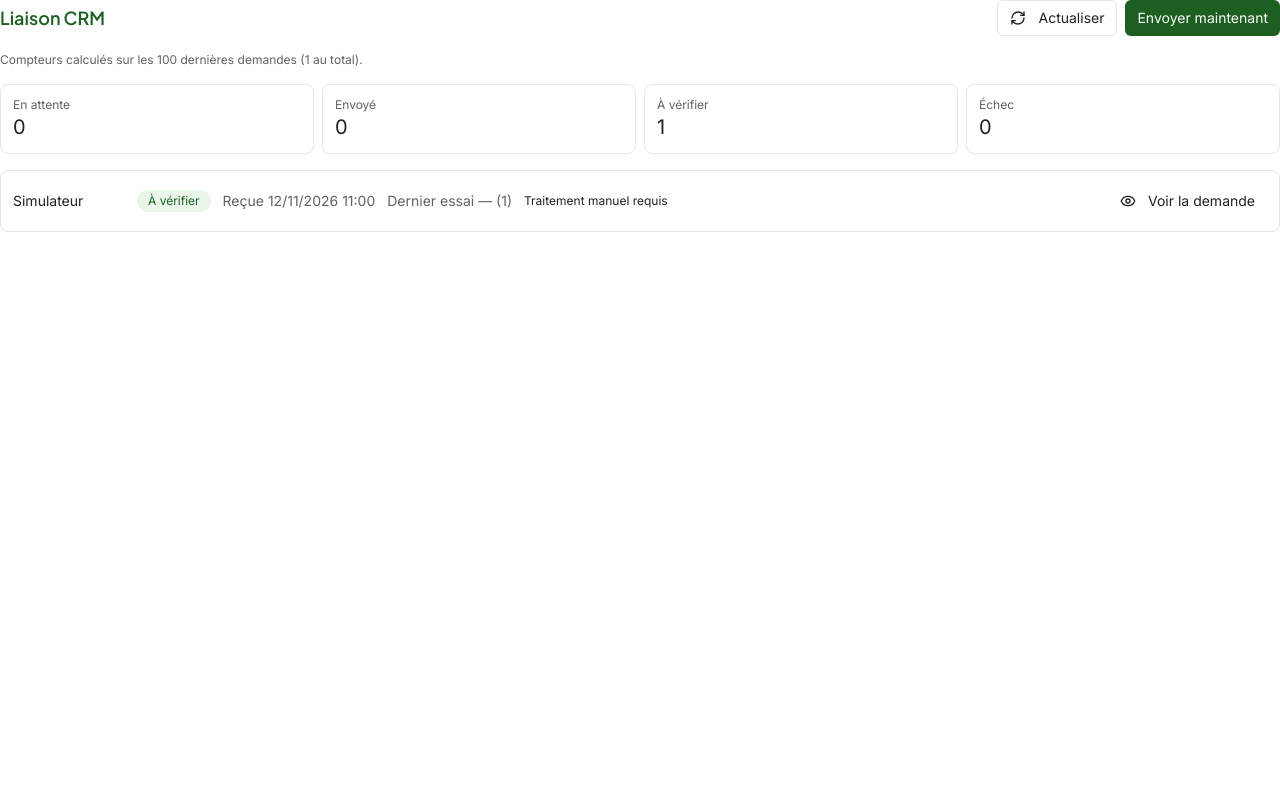
CrmOutboxManager › never requests simulation financial columns
The image size is (1280, 800).
Click the button "Voir la demande" at (1188, 201), box [1108,183,1267,219]
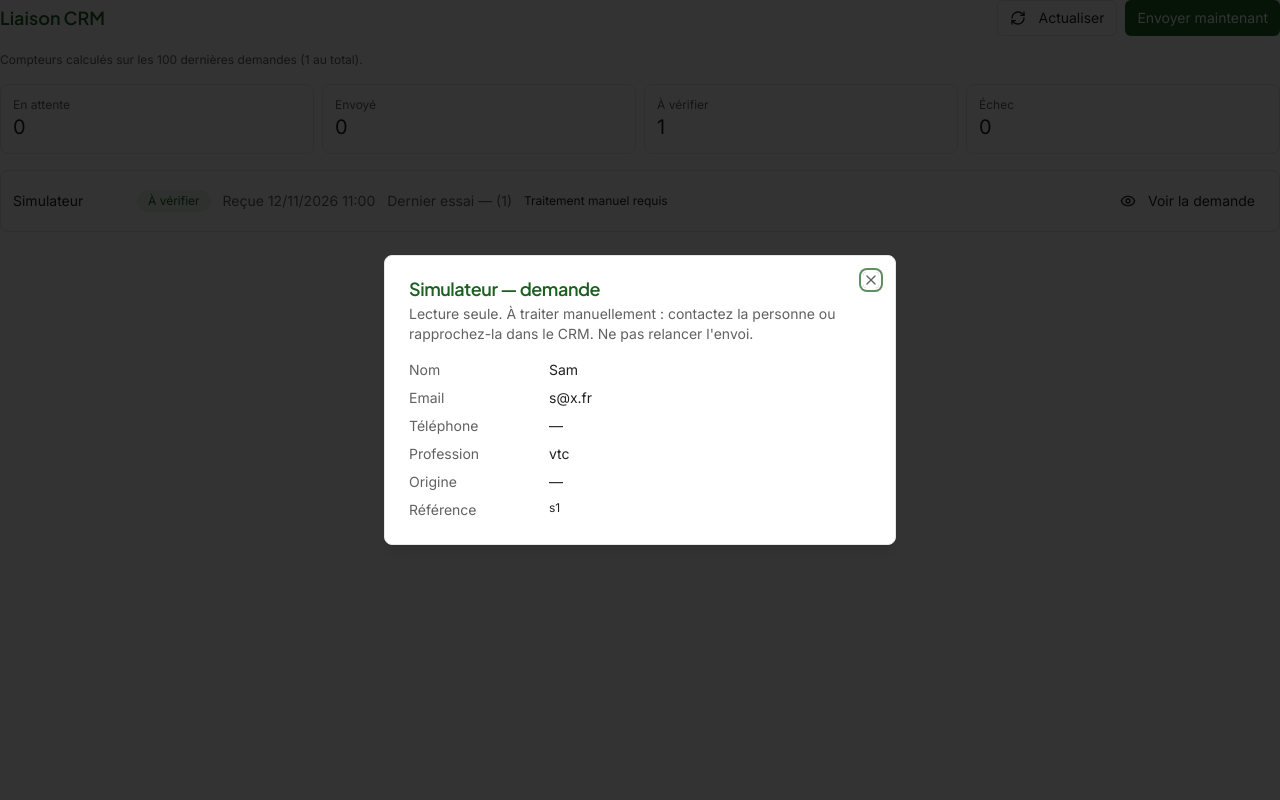
Expected: the text "Sam" is shown, [549,361,578,378]
